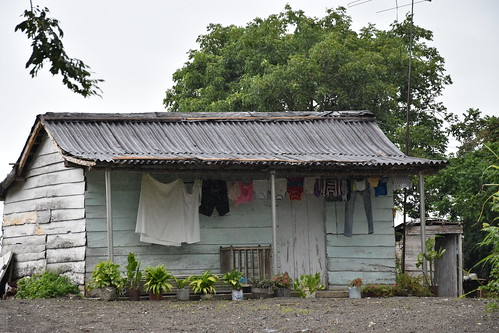medium: (1, 103, 452, 301)
